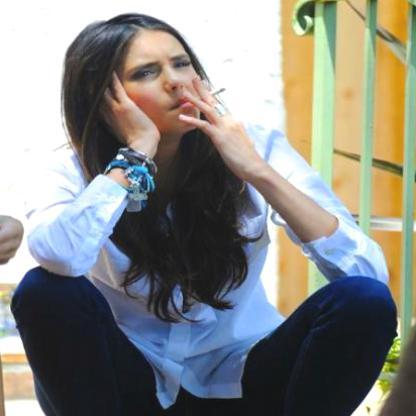cigarette: (207, 85, 227, 98)
person: (11, 15, 369, 415)
